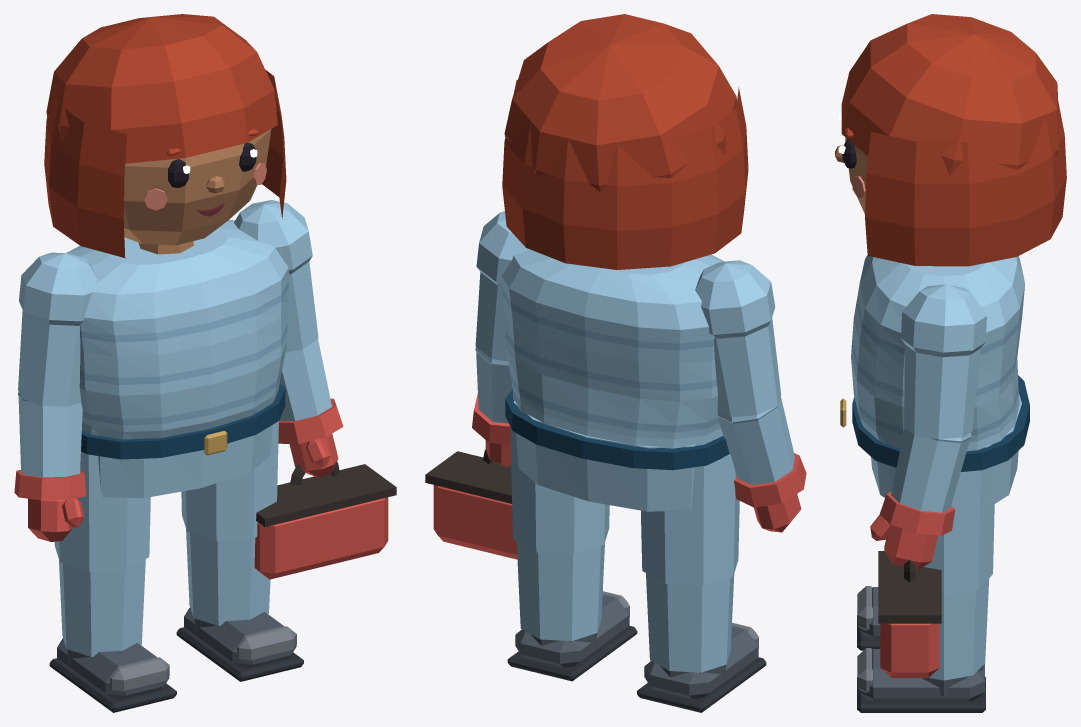
The model's file is fro-n2.glb.
3 renders of one model, left to right at view 1: azimuth 30°, elevation 25°; view 2: azimuth 150°, elevation 25°; view 3: azimuth 270°, elevation 25°, orthographic.
Visible parts, largest first — view 1: torso, haare, arm_r, bein_r, gegenstand_toolcase, bein_l, arm_l, kopf, becken, schuh_r, schuh_l, gürtel (+3 smaller); view 2: haare, torso, bein_r, arm_r, bein_l, becken, gegenstand_toolcase, arm_l, gürtel, schuh_l, schuh_r, hand_r; view 3: haare, torso, arm_l, bein_l, gegenstand_toolcase, schuh_l, gürtel, hand_l, becken, schuh_r, gesicht, kopf.
Boxes of the visible parts, x1=… form: torso: x1=66, y1=219, x2=289, y2=439; haare: x1=44, y1=14, x2=286, y2=257; arm_r: x1=14, y1=252, x2=97, y2=500; bein_r: x1=54, y1=451, x2=150, y2=656; gegenstand_toolcase: x1=254, y1=462, x2=396, y2=579; bein_l: x1=181, y1=421, x2=278, y2=625; arm_l: x1=234, y1=200, x2=343, y2=444; kopf: x1=123, y1=129, x2=271, y2=245; becken: x1=98, y1=425, x2=272, y2=498; schuh_r: x1=49, y1=638, x2=176, y2=712; schuh_l: x1=176, y1=607, x2=303, y2=681; gürtel: x1=81, y1=384, x2=285, y2=459; haare: x1=502, y1=14, x2=748, y2=269; torso: x1=501, y1=250, x2=724, y2=448; bein_r: x1=641, y1=454, x2=739, y2=672; arm_r: x1=695, y1=260, x2=806, y2=507; bein_l: x1=510, y1=427, x2=609, y2=641; becken: x1=513, y1=400, x2=696, y2=511; gegenstand_toolcase: x1=425, y1=449, x2=517, y2=559; arm_l: x1=472, y1=211, x2=530, y2=444; gürtel: x1=505, y1=389, x2=729, y2=470; schuh_l: x1=507, y1=591, x2=637, y2=681; schuh_r: x1=637, y1=622, x2=766, y2=712; hand_r: x1=754, y1=494, x2=801, y2=532; haare: x1=841, y1=14, x2=1066, y2=266; torso: x1=851, y1=255, x2=1024, y2=451; arm_l: x1=879, y1=284, x2=986, y2=535; bein_l: x1=923, y1=470, x2=994, y2=680; gegenstand_toolcase: x1=878, y1=551, x2=941, y2=677; schuh_l: x1=857, y1=648, x2=985, y2=712; gürtel: x1=840, y1=375, x2=1029, y2=471; hand_l: x1=870, y1=514, x2=937, y2=569; becken: x1=871, y1=394, x2=1021, y2=509; schuh_r: x1=857, y1=586, x2=880, y2=650; gesicht: x1=835, y1=113, x2=865, y2=198; kopf: x1=845, y1=137, x2=868, y2=213.
Bounding box in the file's own units: 0.0133 × 0.0223 × 0.0074.
